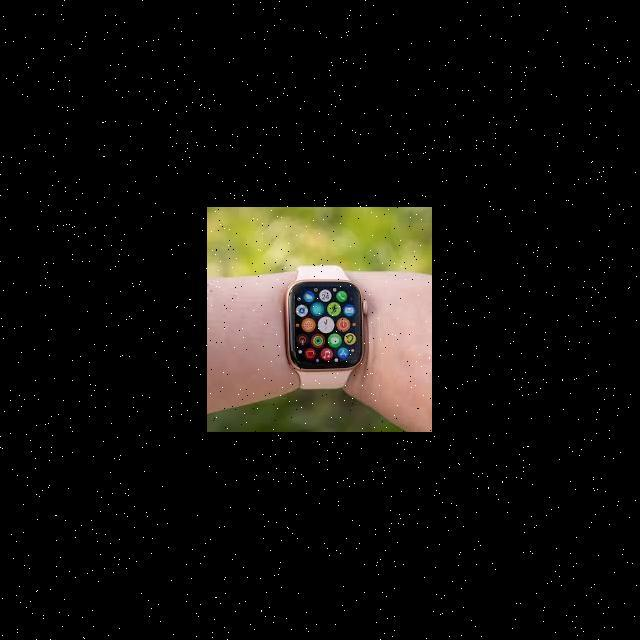watch: (275, 248, 373, 407)
